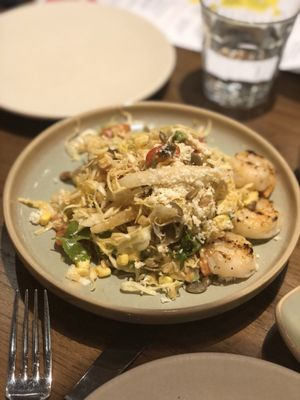burger: (1, 229, 53, 400), (6, 287, 53, 400)
pizza: (199, 0, 300, 120)
sandwich: (60, 342, 147, 400)
sushi: (2, 100, 299, 325), (0, 0, 176, 122), (82, 352, 300, 400), (275, 283, 300, 370)
